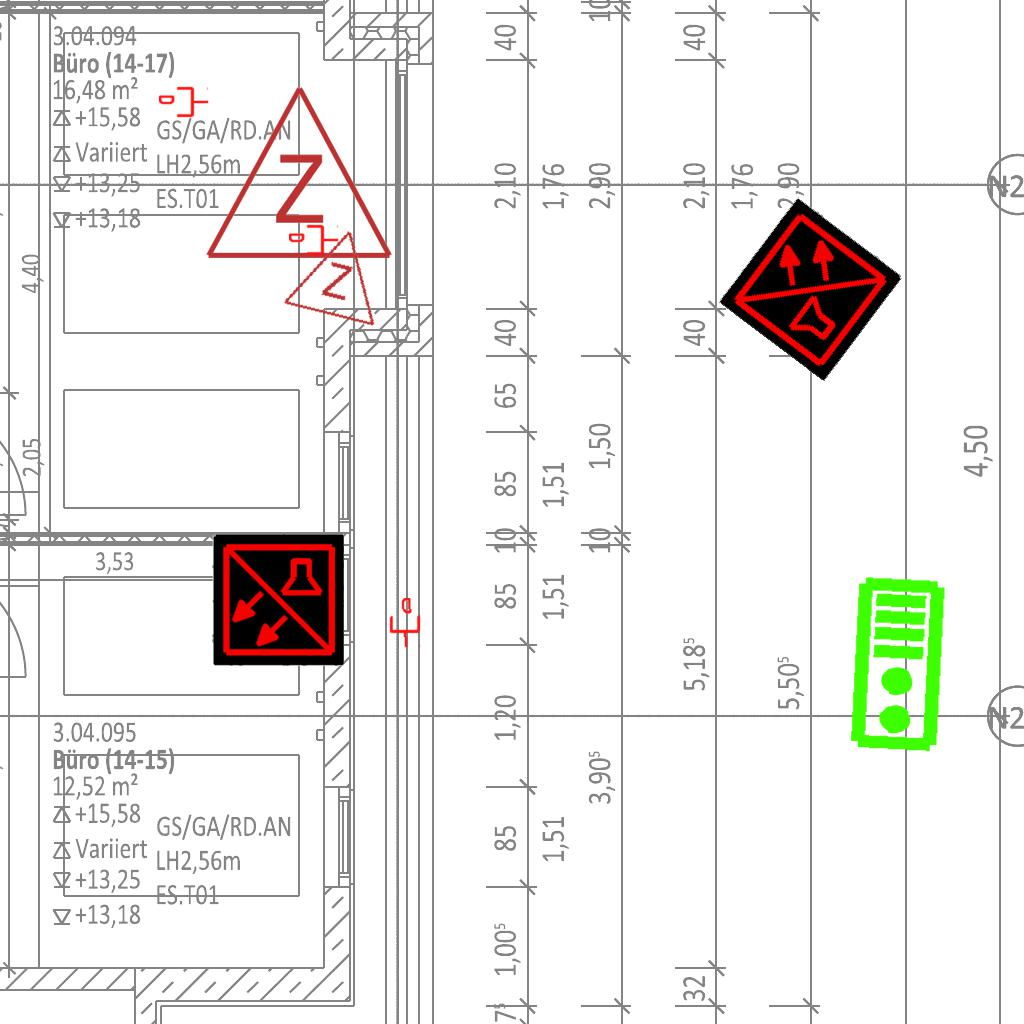Datenanschluss_einfach: (387, 597, 423, 649), (159, 85, 209, 119), (289, 223, 339, 257)
Gegensprechanlage_mit_Video: (847, 574, 952, 756)
OKW_Multisensormelder_(Kombination_optischer_Rauch-Kahlenmonoxid_Waerme-Melder): (718, 196, 904, 382), (212, 534, 344, 666)
Zimmersignalleuchte: (199, 73, 395, 273), (278, 212, 398, 334)
